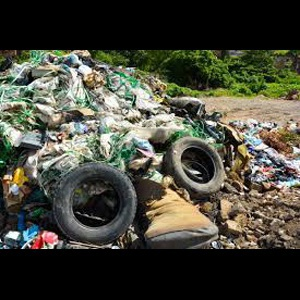tire: (52, 163, 137, 245), (165, 137, 225, 200)
